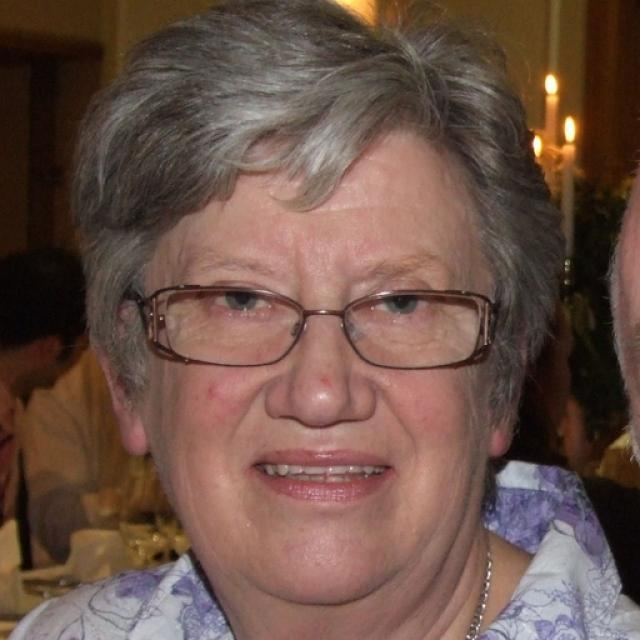disgust: (142, 124, 494, 604)
